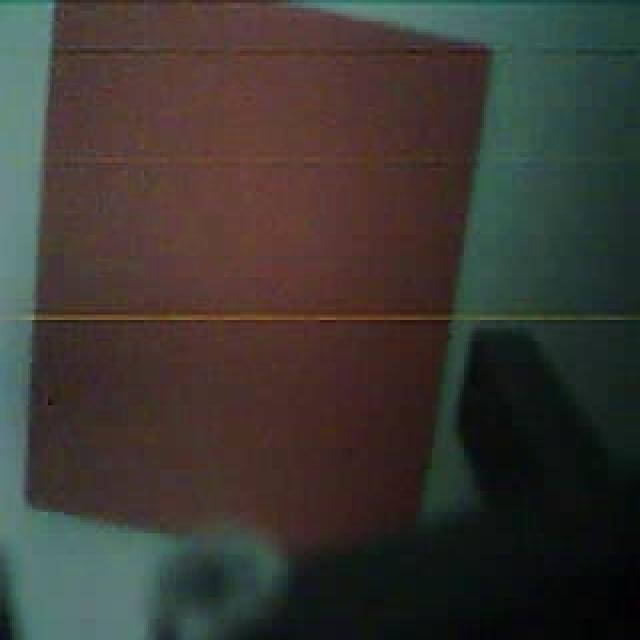red_box: (40, 2, 479, 562)
